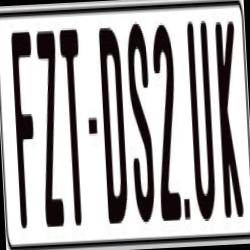2: (151, 22, 183, 224)
D: (98, 20, 128, 228)
F: (10, 32, 42, 242)
K: (214, 16, 245, 226)
S: (126, 17, 157, 222)
T: (59, 23, 87, 221)
U: (186, 20, 216, 224)
Z: (35, 24, 67, 229)
